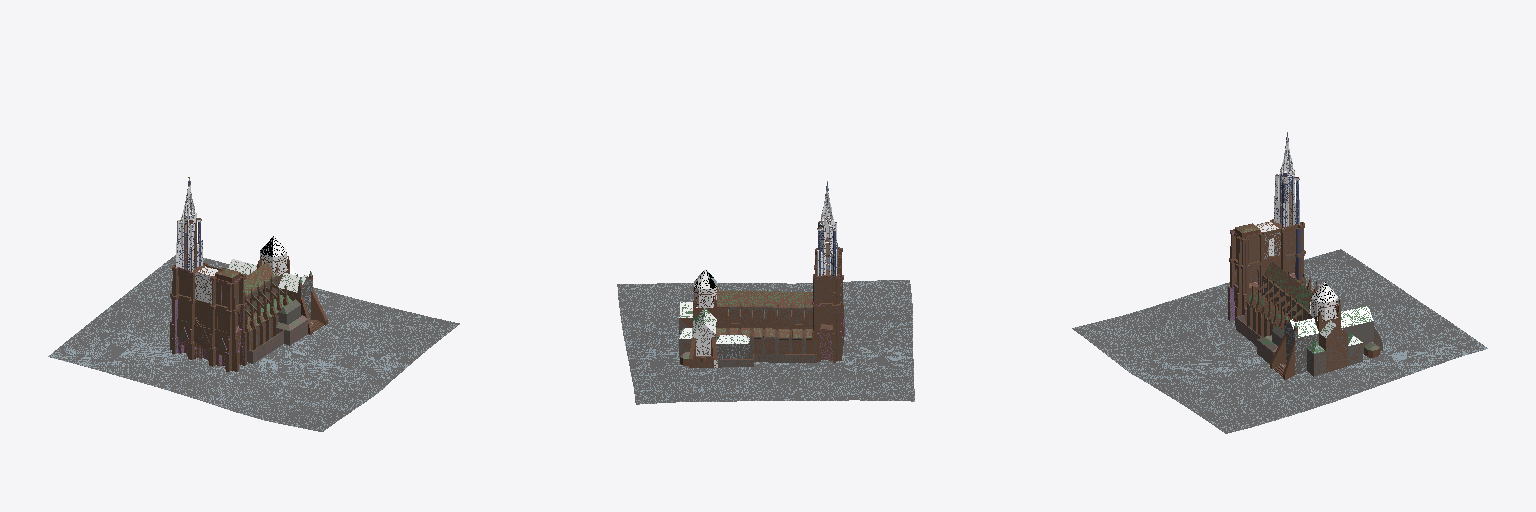
File: cathedraleG.obj
The picture shows the model from 3 angles: view 1: azimuth 30°, elevation 25°; view 2: azimuth 150°, elevation 25°; view 3: azimuth 270°, elevation 25°; orthographic projection.
Visible parts, largest first — view 1: Mesh83 Sol Model, Mesh20 Group4 Group3 Group2 Group1 Massif_occidentale Model, Mesh122 Nef_gothique Model, Mesh75 Group5 Transept_roman Model, Mesh1 Fleche Model, Mesh108 Boutiques_neogothiques Model, Mesh99 Tours_gothiques Model, Mesh90 Tour_Koltz Model, Mesh98 Tours_gothiques Model, Mesh117 Beffroi Model; view 2: Mesh83 Sol Model, Mesh122 Nef_gothique Model, Mesh75 Group5 Transept_roman Model, Mesh20 Group4 Group3 Group2 Group1 Massif_occidentale Model, Mesh1 Fleche Model, Mesh98 Tours_gothiques Model, Mesh85 Group6 Chapelle_St_Laurent Model, Mesh88 Group7 Chapelle_St_Laurent Model, Mesh90 Tour_Koltz Model; view 3: Mesh83 Sol Model, Mesh75 Group5 Transept_roman Model, Mesh122 Nef_gothique Model, Mesh20 Group4 Group3 Group2 Group1 Massif_occidentale Model, Mesh1 Fleche Model, Mesh99 Tours_gothiques Model, Mesh90 Tour_Koltz Model, Mesh98 Tours_gothiques Model, Mesh108 Boutiques_neogothiques Model, Mesh117 Beffroi Model.
Boxes of the visible parts, x1=… form: Mesh83 Sol Model: x1=48, y1=255, x2=459, y2=431; Mesh20 Group4 Group3 Group2 Group1 Massif_occidentale Model: x1=170, y1=293, x2=246, y2=371; Mesh122 Nef_gothique Model: x1=244, y1=262, x2=291, y2=350; Mesh75 Group5 Transept_roman Model: x1=228, y1=259, x2=327, y2=334; Mesh1 Fleche Model: x1=176, y1=179, x2=202, y2=271; Mesh108 Boutiques_neogothiques Model: x1=247, y1=315, x2=307, y2=363; Mesh99 Tours_gothiques Model: x1=210, y1=274, x2=245, y2=311; Mesh90 Tour_Koltz Model: x1=257, y1=236, x2=289, y2=275; Mesh98 Tours_gothiques Model: x1=172, y1=263, x2=207, y2=300; Mesh117 Beffroi Model: x1=195, y1=265, x2=220, y2=303; Mesh83 Sol Model: x1=617, y1=280, x2=914, y2=404; Mesh122 Nef_gothique Model: x1=716, y1=290, x2=812, y2=358; Mesh75 Group5 Transept_roman Model: x1=679, y1=290, x2=718, y2=367; Mesh20 Group4 Group3 Group2 Group1 Massif_occidentale Model: x1=812, y1=275, x2=844, y2=362; Mesh1 Fleche Model: x1=817, y1=185, x2=837, y2=276; Mesh98 Tours_gothiques Model: x1=812, y1=265, x2=841, y2=305; Mesh85 Group6 Chapelle_St_Laurent Model: x1=718, y1=354, x2=816, y2=367; Mesh88 Group7 Chapelle_St_Laurent Model: x1=716, y1=335, x2=749, y2=359; Mesh90 Tour_Koltz Model: x1=693, y1=269, x2=717, y2=307; Mesh83 Sol Model: x1=1072, y1=249, x2=1487, y2=433; Mesh75 Group5 Transept_roman Model: x1=1270, y1=306, x2=1382, y2=379; Mesh122 Nef_gothique Model: x1=1246, y1=262, x2=1340, y2=337; Mesh20 Group4 Group3 Group2 Group1 Massif_occidentale Model: x1=1228, y1=250, x2=1305, y2=325; Mesh1 Fleche Model: x1=1274, y1=136, x2=1299, y2=228; Mesh99 Tours_gothiques Model: x1=1230, y1=229, x2=1264, y2=265; Mesh90 Tour_Koltz Model: x1=1309, y1=282, x2=1340, y2=321; Mesh98 Tours_gothiques Model: x1=1270, y1=219, x2=1304, y2=256; Mesh108 Boutiques_neogothiques Model: x1=1236, y1=315, x2=1277, y2=363; Mesh117 Beffroi Model: x1=1255, y1=221, x2=1280, y2=259.
Size of the model in its own units: 284 by 144 by 289.